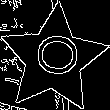O_W: (27, 36, 80, 83)
